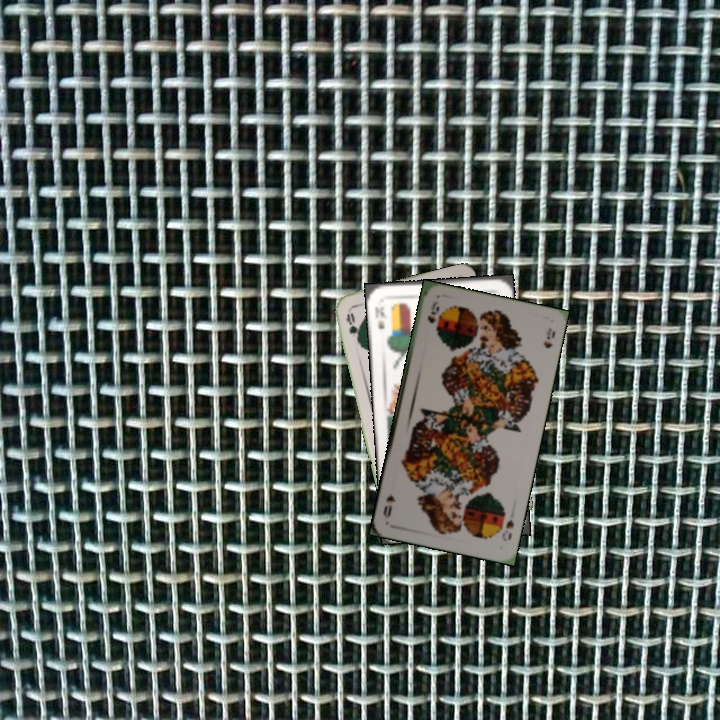EK: (370, 302, 389, 332)
GO: (342, 309, 363, 346)
SO: (423, 297, 442, 326), (498, 516, 516, 544)
